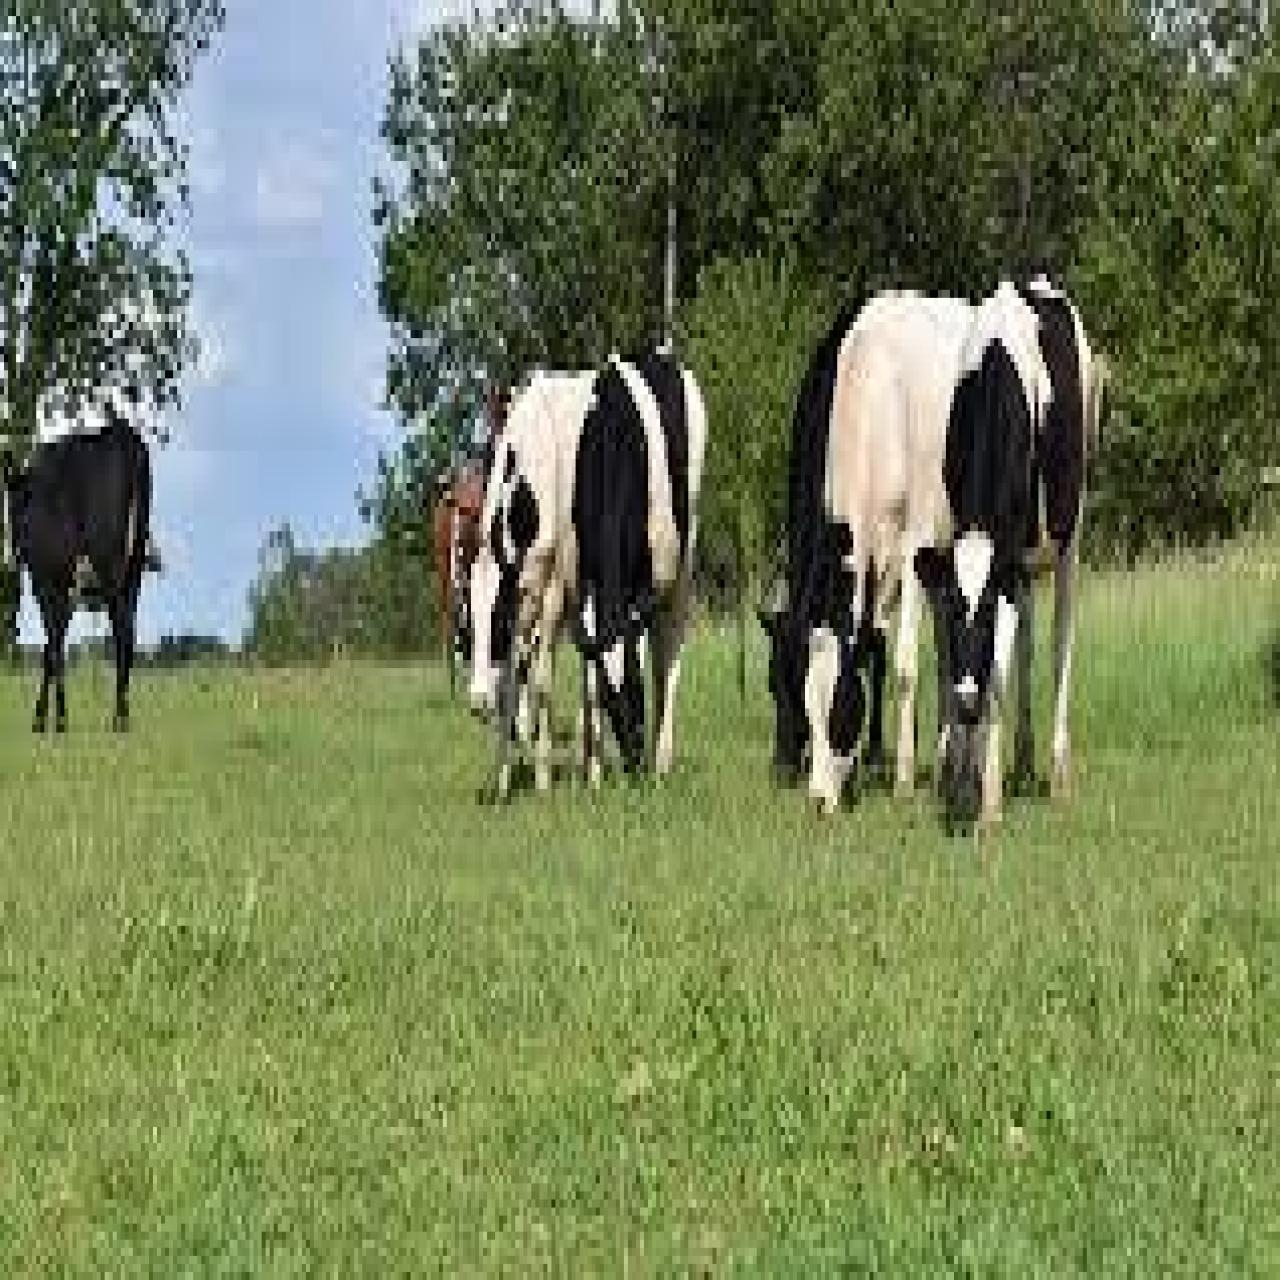cow: (452, 338, 714, 813), (797, 281, 994, 822), (914, 261, 1095, 842), (750, 294, 887, 794), (0, 410, 154, 733)
